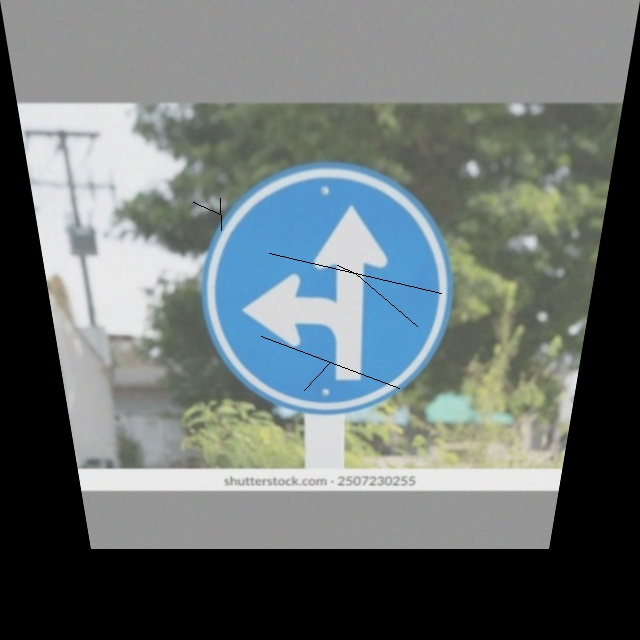Compulsory_Ahead_or_Turn_Left: (190, 168, 458, 411)
